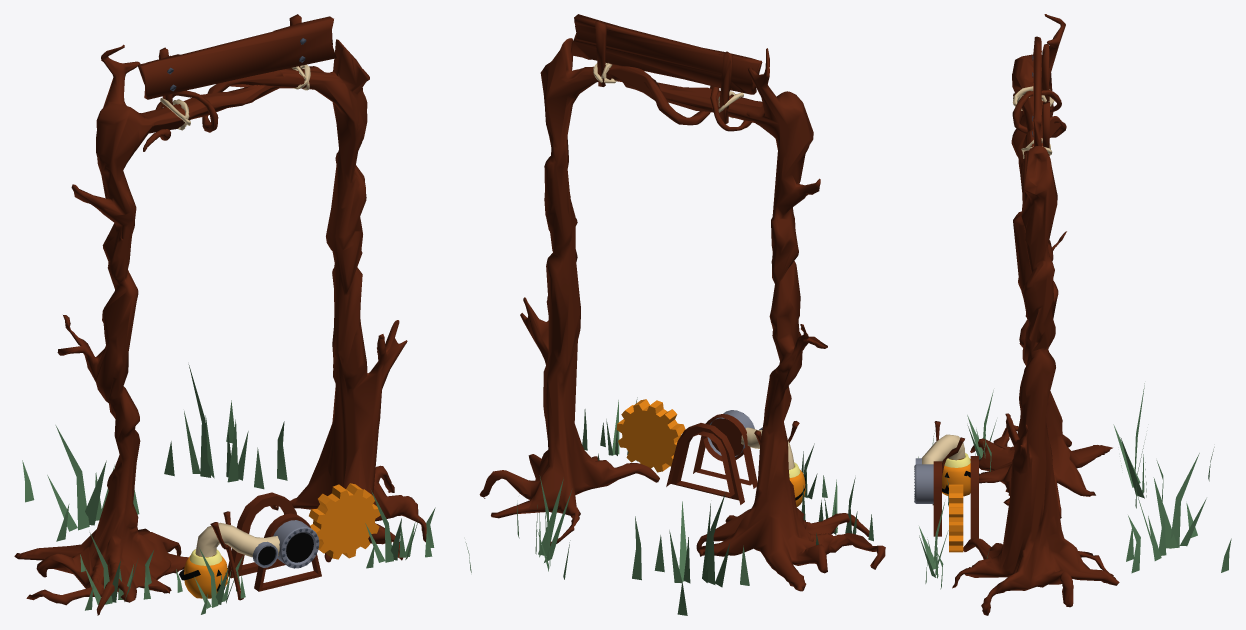
Rendered from frame.glb.
The picture shows the model from 3 angles, left to right: view 1: azimuth 30°, elevation 25°; view 2: azimuth 150°, elevation 25°; view 3: azimuth 270°, elevation 25°; orthographic projection. The views are drawn at different scales.
Visible parts, largest first — view 1: frame, scoreboard, cannonFrame, LinkageGear, grass.002, grass.004, grass.001, grass, grass.003; view 2: frame, scoreboard, cannonFrame, LinkageGear, grass.004, grass.002, grass, grass.001; view 3: frame, cannonFrame, grass.002, scoreboard, LinkageGear, grass.004, grass.001, grass.
Part boxes in pixels (x1=…): frame: x1=14, y1=39, x2=426, y2=615; scoreboard: x1=138, y1=14, x2=336, y2=130; cannonFrame: x1=179, y1=492, x2=321, y2=600; LinkageGear: x1=309, y1=483, x2=380, y2=559; grass.002: x1=164, y1=364, x2=287, y2=489; grass.004: x1=22, y1=425, x2=139, y2=541; grass.001: x1=365, y1=490, x2=435, y2=568; grass: x1=80, y1=532, x2=153, y2=610; grass.003: x1=176, y1=547, x2=245, y2=614; frame: x1=479, y1=38, x2=885, y2=591; scoreboard: x1=570, y1=14, x2=762, y2=124; cannonFrame: x1=666, y1=410, x2=805, y2=507; LinkageGear: x1=616, y1=399, x2=685, y2=472; grass.004: x1=632, y1=492, x2=749, y2=615; grass.002: x1=465, y1=475, x2=571, y2=579; grass: x1=801, y1=477, x2=873, y2=545; grass.001: x1=582, y1=397, x2=637, y2=461; frame: x1=952, y1=14, x2=1119, y2=615; cannonFrame: x1=914, y1=421, x2=979, y2=538; grass.002: x1=1126, y1=453, x2=1231, y2=573; scoreboard: x1=1012, y1=36, x2=1054, y2=158; LinkageGear: x1=949, y1=484, x2=963, y2=552; grass.004: x1=1113, y1=383, x2=1214, y2=508; grass.001: x1=919, y1=502, x2=989, y2=589; grass: x1=967, y1=390, x2=996, y2=471.
Size of what is drawn, in the model's own units: 1.42 by 1.87 by 1.11.
